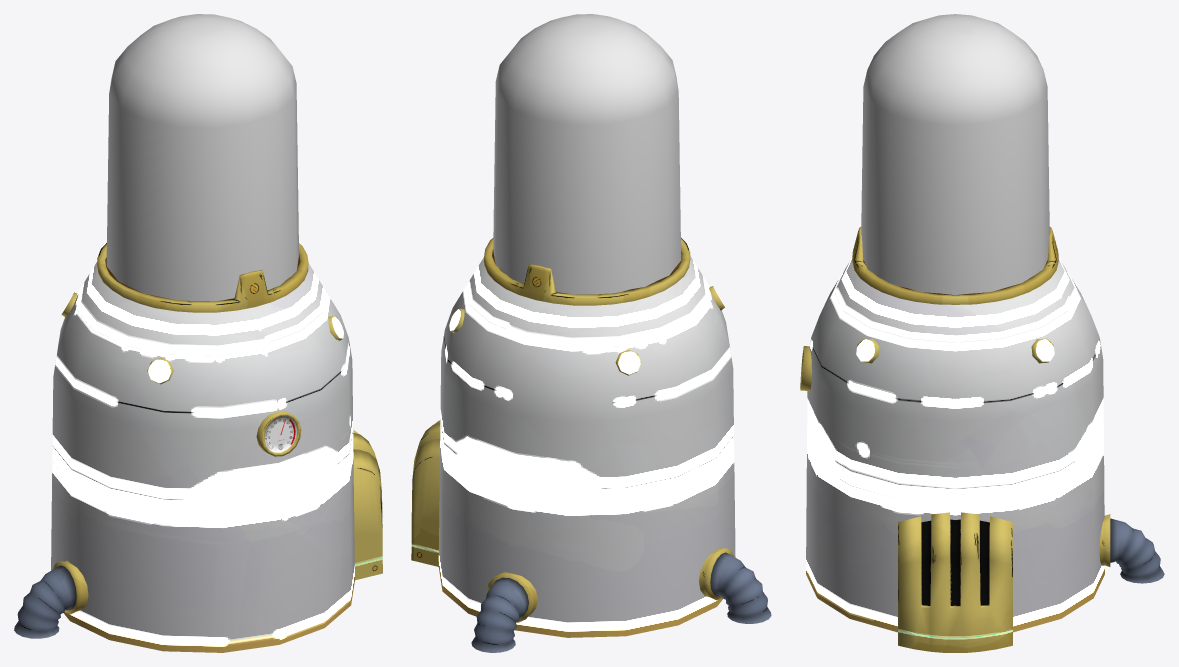
File: SproutCapsule.fbx
3 views of the same model, side by side, from view 1: azimuth 30°, elevation 25°; view 2: azimuth 150°, elevation 25°; view 3: azimuth 270°, elevation 25° (orthographic). The views are drawn at different scales.
Parts seen in each view (by area): view 1: SproutCapsule, Capsule, CapsuleBase; view 2: SproutCapsule, Capsule, CapsuleBase; view 3: SproutCapsule, Capsule, CapsuleBase.
Boxes of the visible parts, x1=… form: SproutCapsule: x1=14, y1=262, x2=382, y2=652; Capsule: x1=106, y1=14, x2=298, y2=301; CapsuleBase: x1=97, y1=243, x2=308, y2=312; SproutCapsule: x1=411, y1=256, x2=771, y2=652; Capsule: x1=493, y1=14, x2=681, y2=294; CapsuleBase: x1=484, y1=238, x2=690, y2=305; SproutCapsule: x1=800, y1=258, x2=1164, y2=652; Capsule: x1=861, y1=14, x2=1049, y2=295; CapsuleBase: x1=852, y1=227, x2=1058, y2=304.
Bounding box in the file's own units: 1.16 × 1.76 × 1.06.
